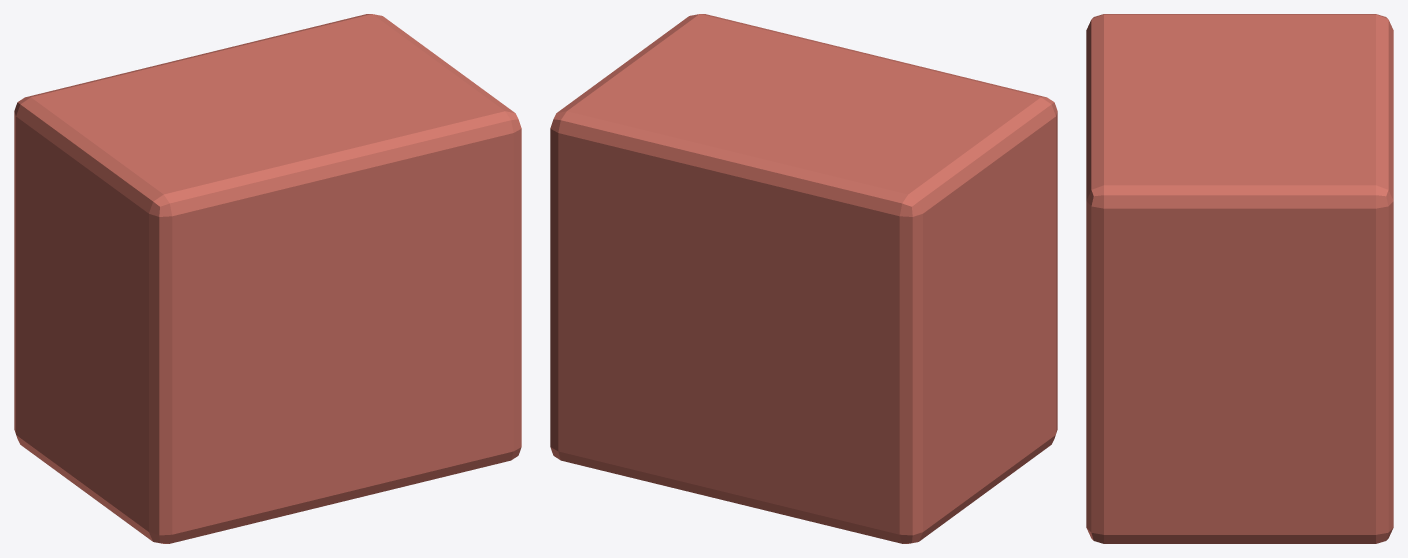
File: Loot_AmmoBox_Shotgun.fbx
3 views of the same model, side by side, from view 1: azimuth 30°, elevation 25°; view 2: azimuth 150°, elevation 25°; view 3: azimuth 270°, elevation 25° (orthographic). The views are drawn at different scales.
Parts seen in each view (by area): view 1: AmmoBoxShotgun; view 2: AmmoBoxShotgun; view 3: AmmoBoxShotgun.
Boxes of the visible parts, left/top/right/bottom form: AmmoBoxShotgun: left=14, top=14, right=521, bottom=543; AmmoBoxShotgun: left=550, top=14, right=1057, bottom=543; AmmoBoxShotgun: left=1086, top=14, right=1393, bottom=543.
Bounding box in the file's own units: 0.2 × 0.18 × 0.14.
